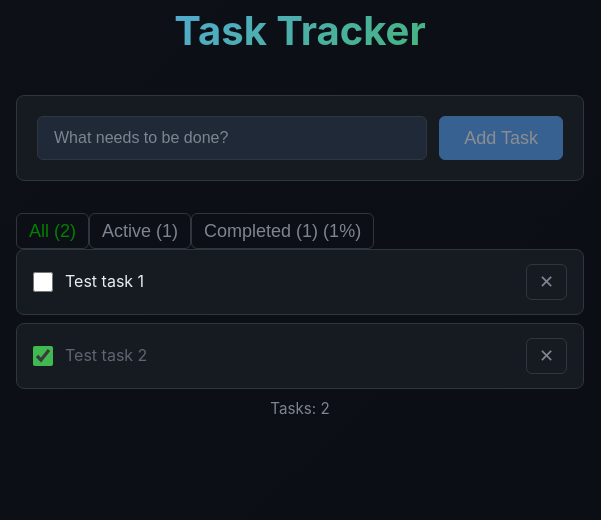
Test: App Component › Error Handling › displays error when toggle task fails
Expected: the text "Test task 1" is shown, [65,271,144,291]
Click the checkbox labelled "Test task 1".
click(43, 282)  # box [33,272,53,292]
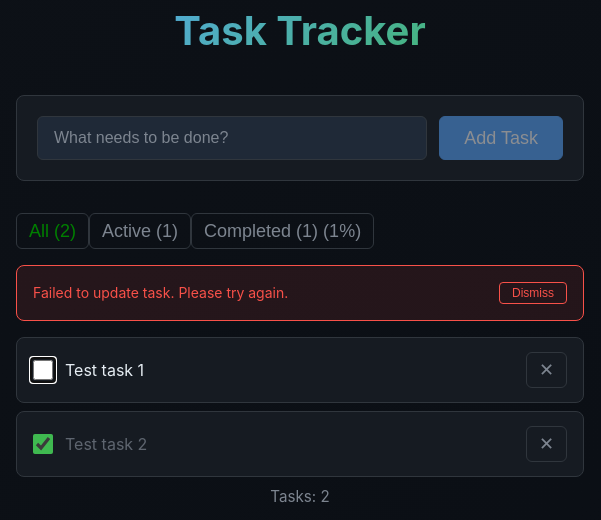
Result: the text "Failed to update task. Please try again." is shown at [33,282,288,304]
